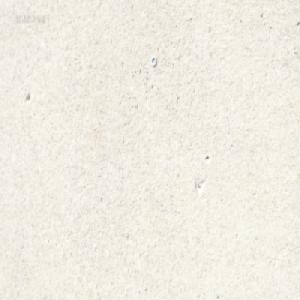Washer: (150, 57, 156, 68)
